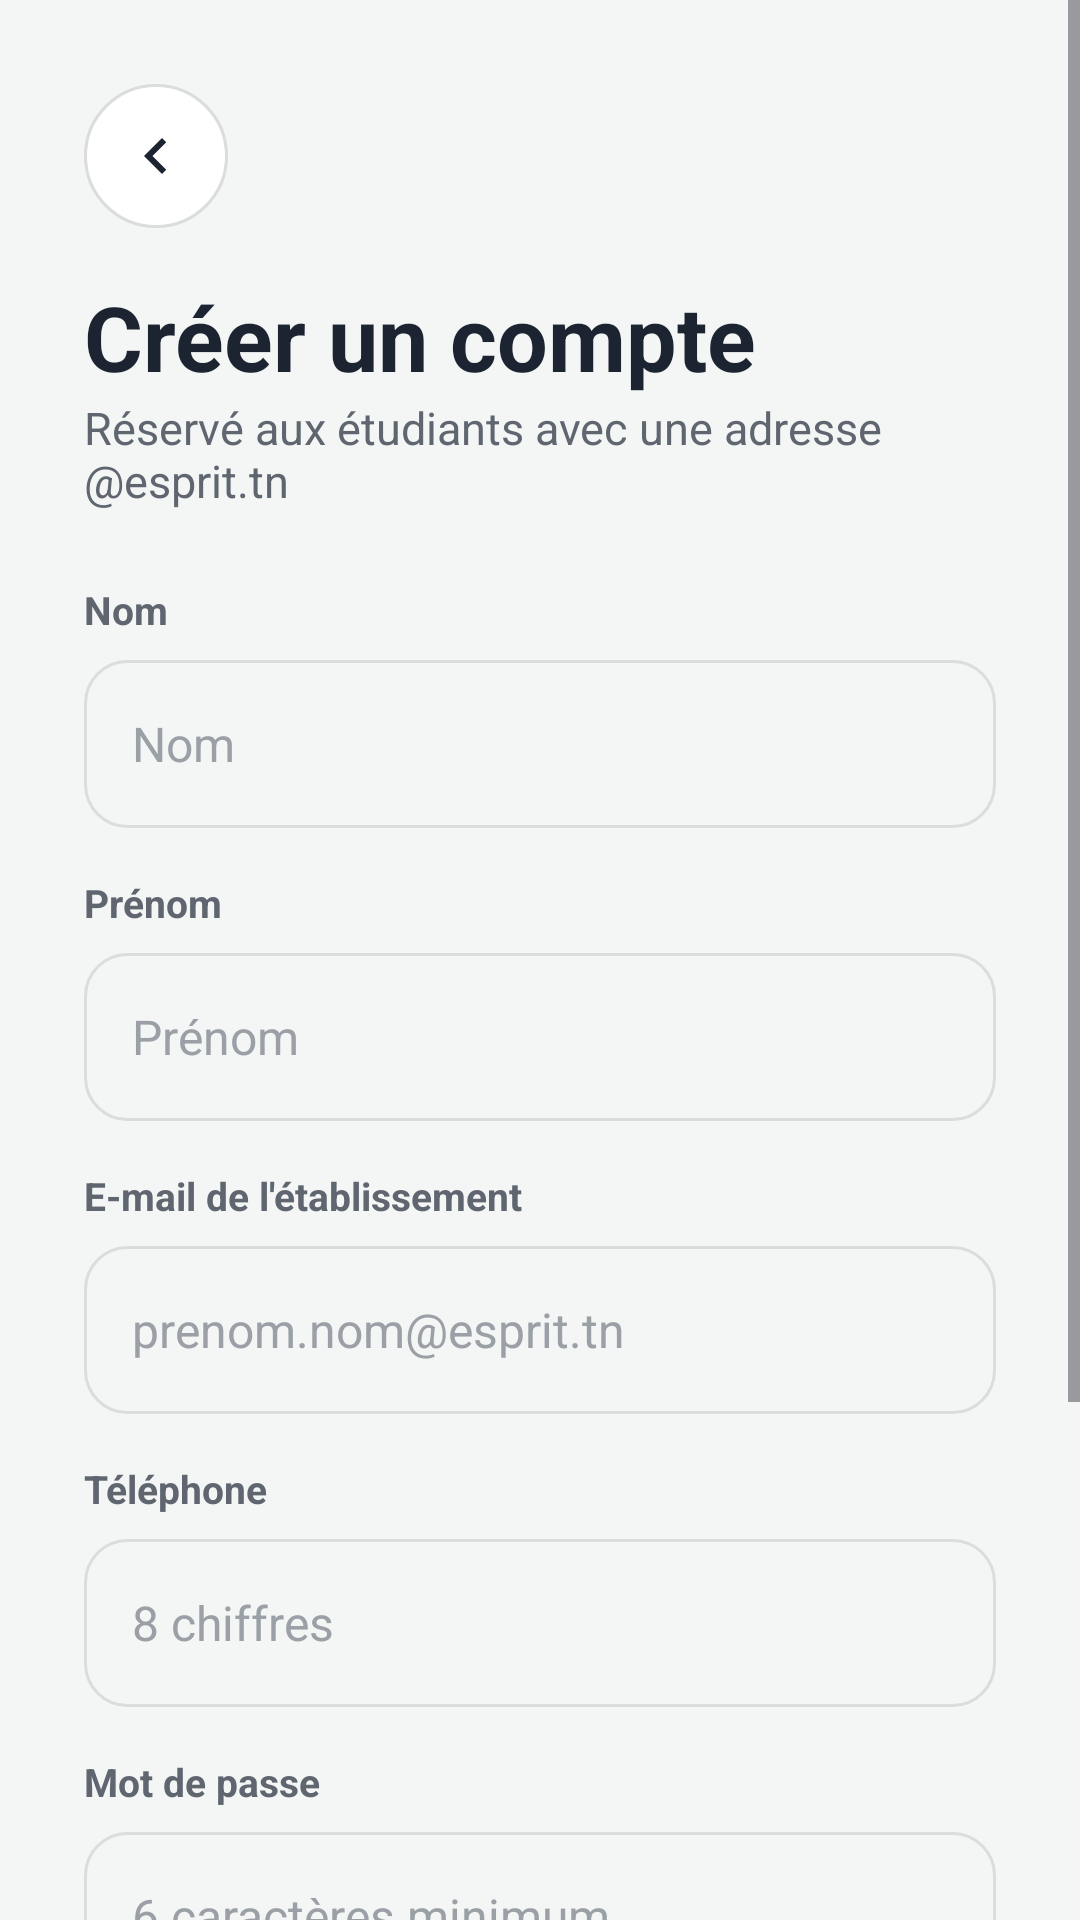

Where to tap for icons on this 1080 x 1920 app screen, as [x,y]:
Retour: [156,156]
